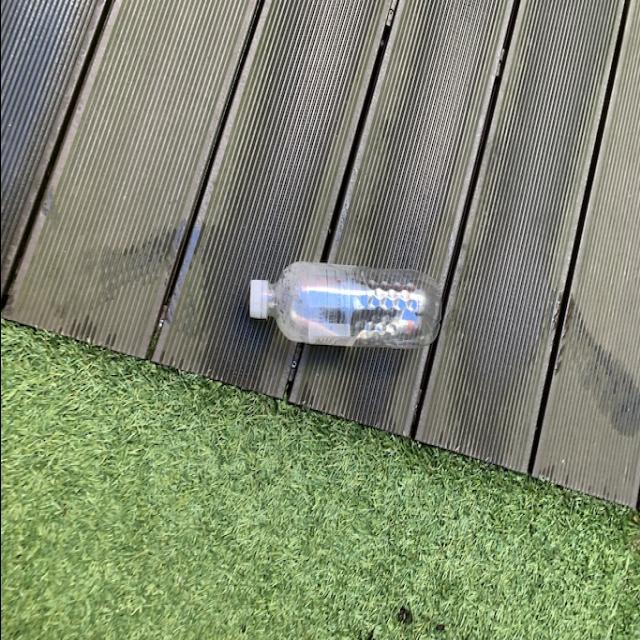PET: (247, 260, 440, 346)
